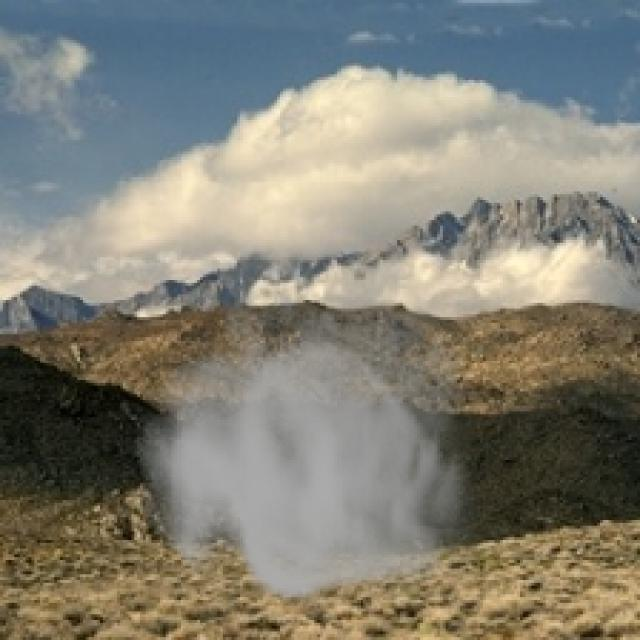smoke: (134, 245, 492, 606)
